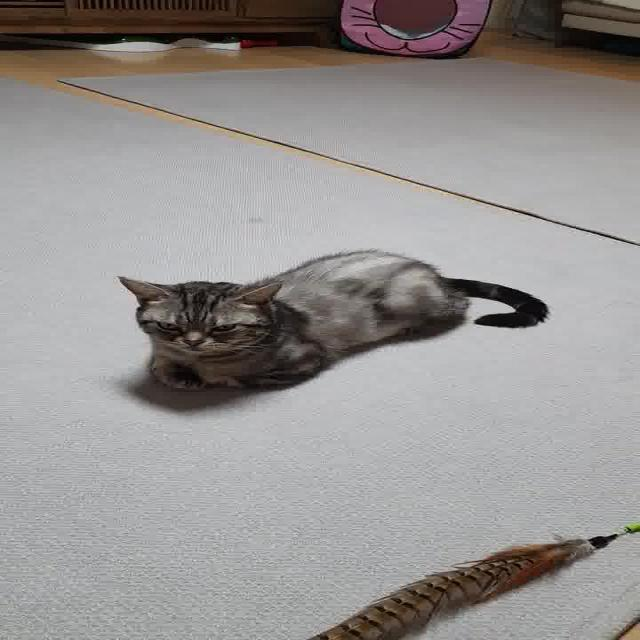cat: (108, 244, 559, 418)
